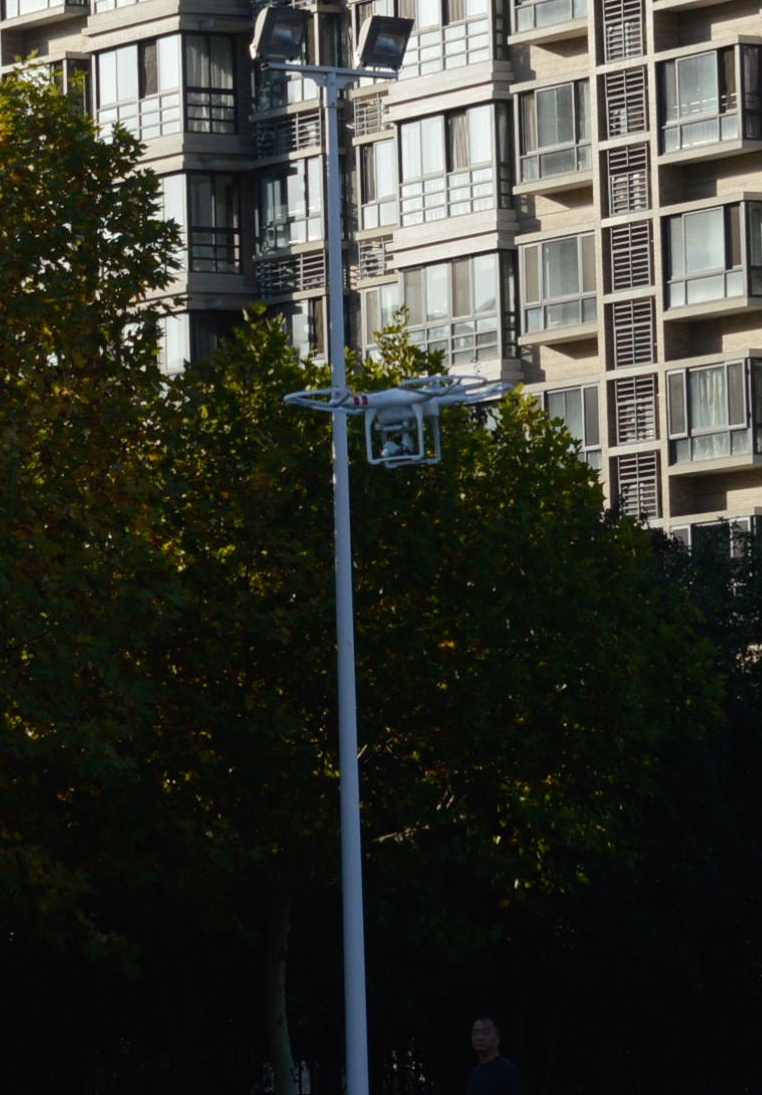DJI: (287, 377, 506, 469)
